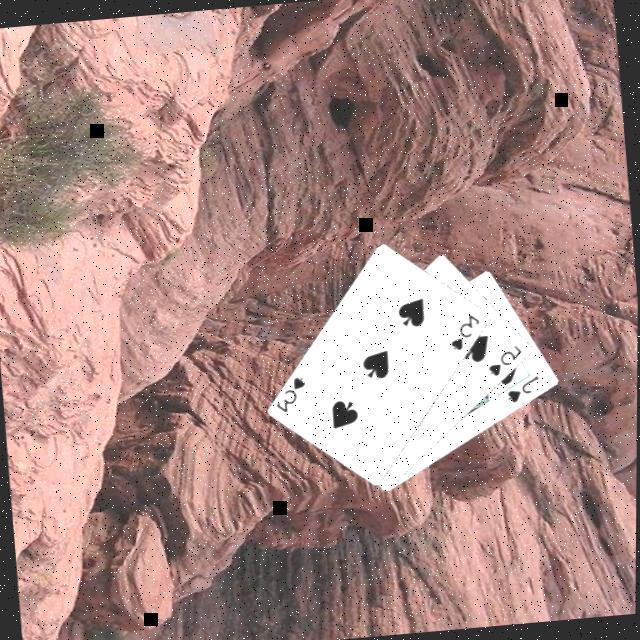3S: (446, 310, 487, 354), (274, 373, 313, 417)
5S: (485, 341, 529, 380)
JS: (505, 373, 546, 407)
